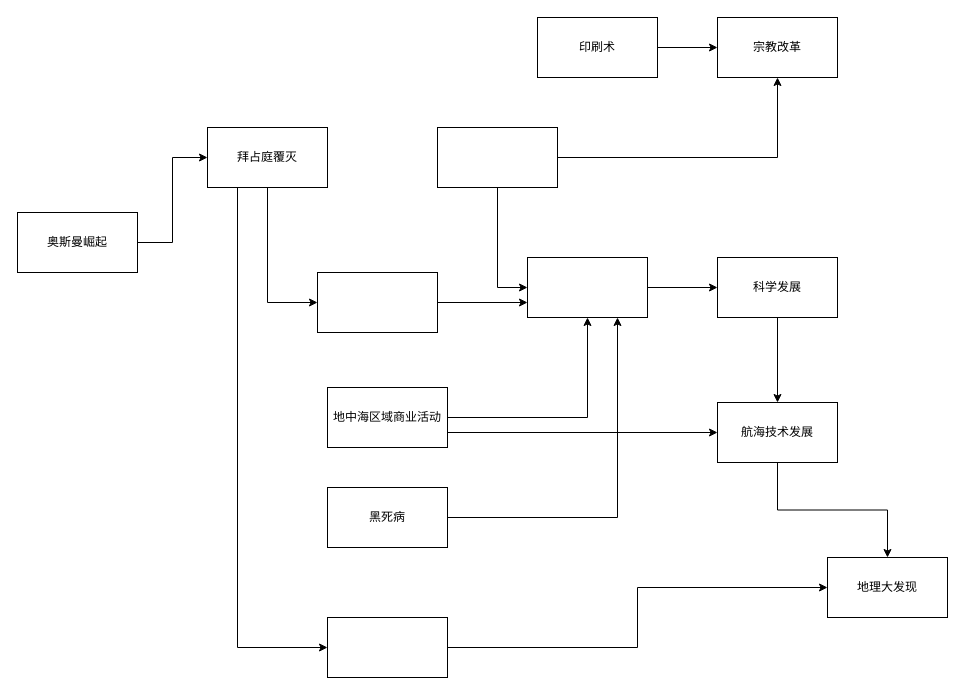
The diagram is 965 pixels wide and 695 high, and some of its shapes have lost their labels. The shapes that lost their labels are listed below. From the top down, each one's centre as x and y in pixels, then its label:
the point at 497,157: 中世纪宗教统治
the point at 377,302: 文化传播
the point at 587,287: 文艺复习
the point at 387,647: 欧洲和亚洲的贸易路线受到限制
